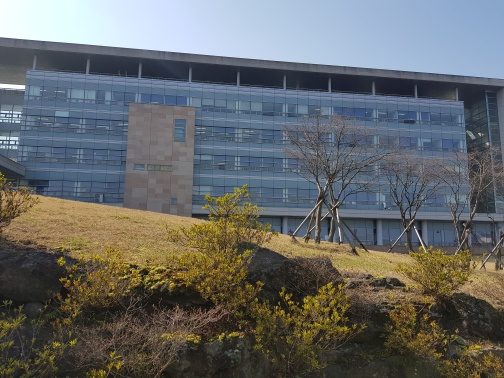Engineering College Building 4: (4, 39, 503, 203), (220, 72, 493, 217), (133, 99, 191, 213)
